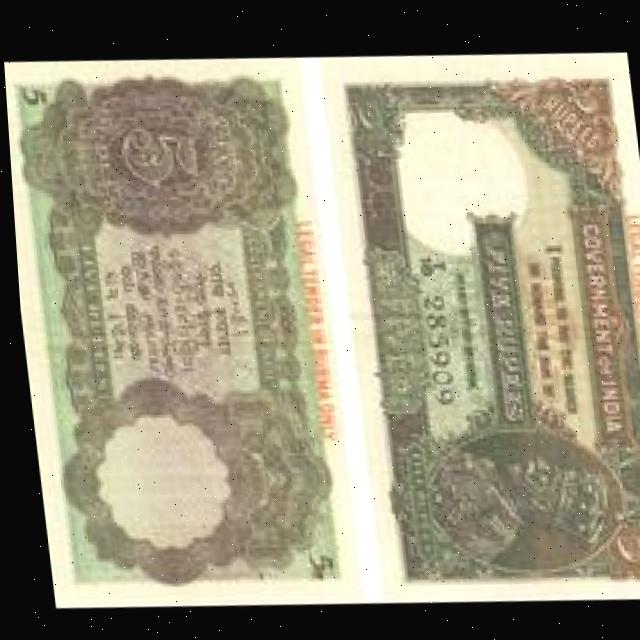banknote: (2, 46, 354, 613), (337, 55, 640, 594)
